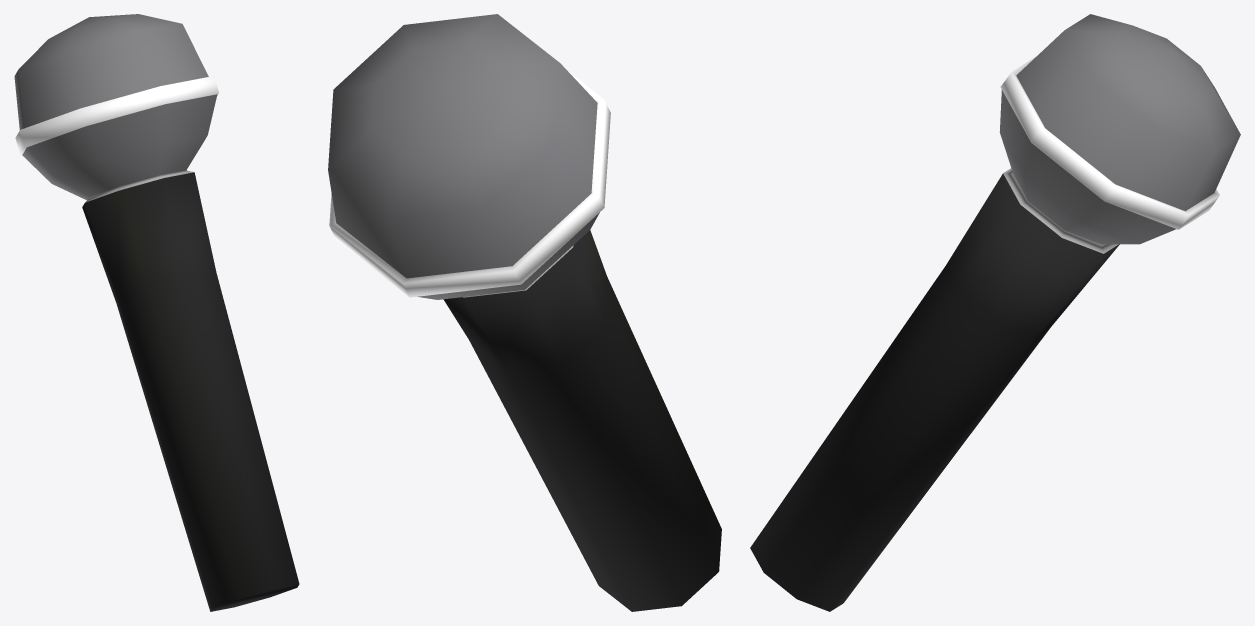
The model's file is Microphone.glb.
The picture shows the model from 3 angles, left to right: view 1: azimuth 30°, elevation 25°; view 2: azimuth 150°, elevation 25°; view 3: azimuth 270°, elevation 25°; orthographic projection. The views are drawn at different scales.
Visible parts, largest first — view 1: Microphone; view 2: Microphone; view 3: Microphone.
Part boxes in pixels (<box>): Microphone: <box>14,14,299,611</box>; Microphone: <box>328,14,721,611</box>; Microphone: <box>750,14,1240,611</box>.
Size of the model in its own units: 0.1206 by 0.3056 by 0.2372.
Materials: 1 (1 with a texture image).
